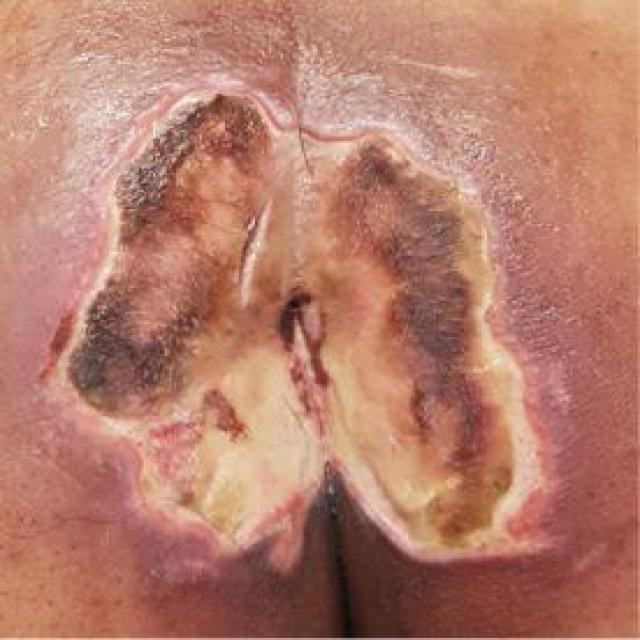Unstageable: (71, 96, 539, 556)
